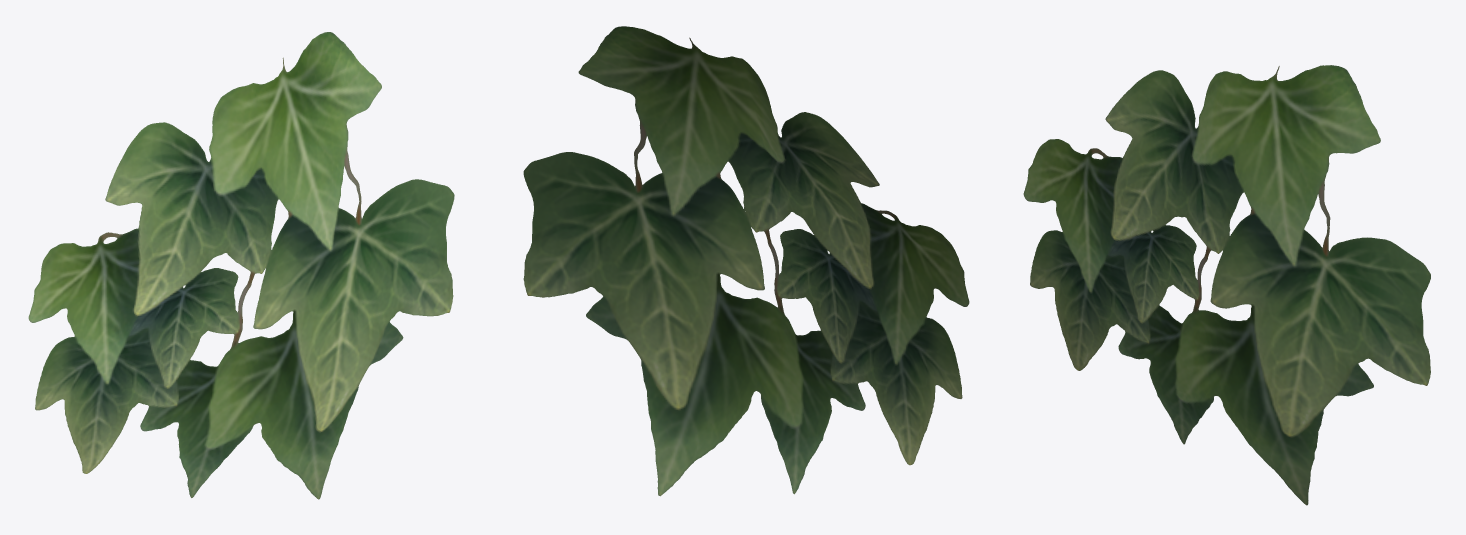
The model's file is BgMD_vine01_04.fbx.
3 views of the same model, side by side, from view 1: azimuth 30°, elevation 25°; view 2: azimuth 150°, elevation 25°; view 3: azimuth 330°, elevation 25° (orthographic). The views are drawn at different scales.
Visible parts, largest first — view 1: BgMD_vine01_04; view 2: BgMD_vine01_04; view 3: BgMD_vine01_04.
Part boxes in pixels (x1,y1,x2,y2): BgMD_vine01_04: (28,32,454,499); BgMD_vine01_04: (523,26,969,496); BgMD_vine01_04: (1023,65,1430,505).
Size of the model in its own units: 15.3 by 15.48 by 2.08.
